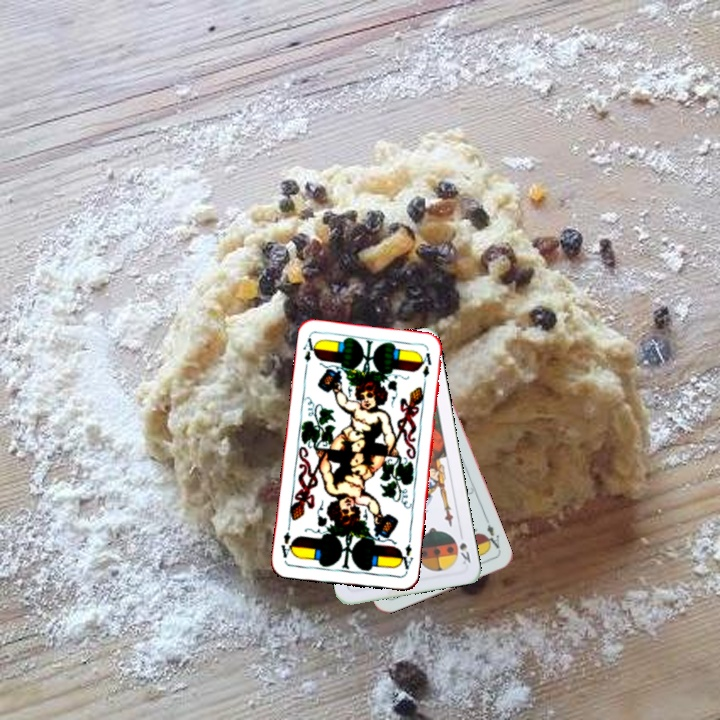EA: (480, 515, 503, 554), (395, 535, 416, 575), (299, 333, 319, 374)
SK: (456, 527, 473, 568)
